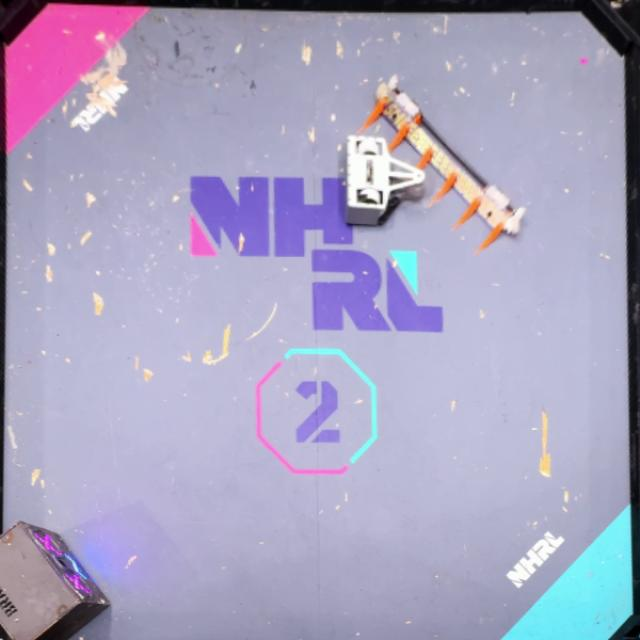housebot: (0, 519, 111, 640)
robot: (356, 74, 527, 253), (339, 136, 428, 227)
